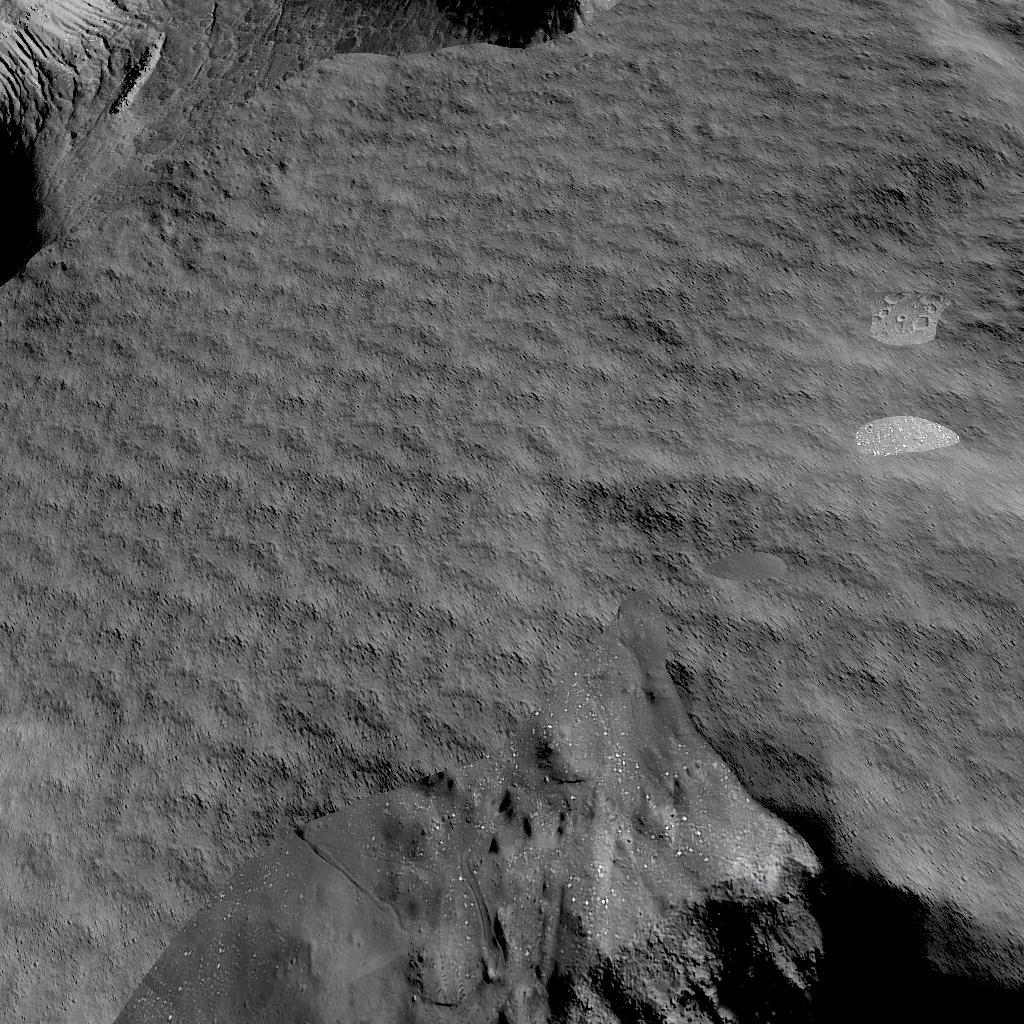Boulders: (0, 0, 620, 285)
Crater: (118, 795, 1024, 1024)
Plan surface: (0, 300, 1024, 780), (636, 0, 1024, 285), (0, 798, 101, 1024)
